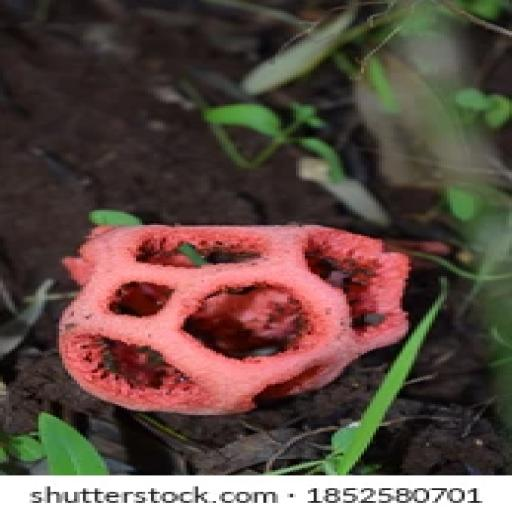Red Cage Fungus: (59, 217, 411, 415)
